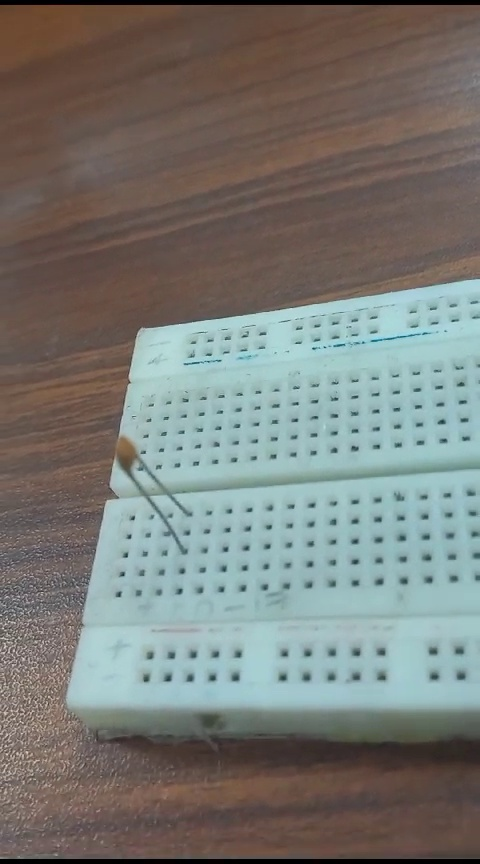ceramic capacitor: (115, 441, 195, 545)
